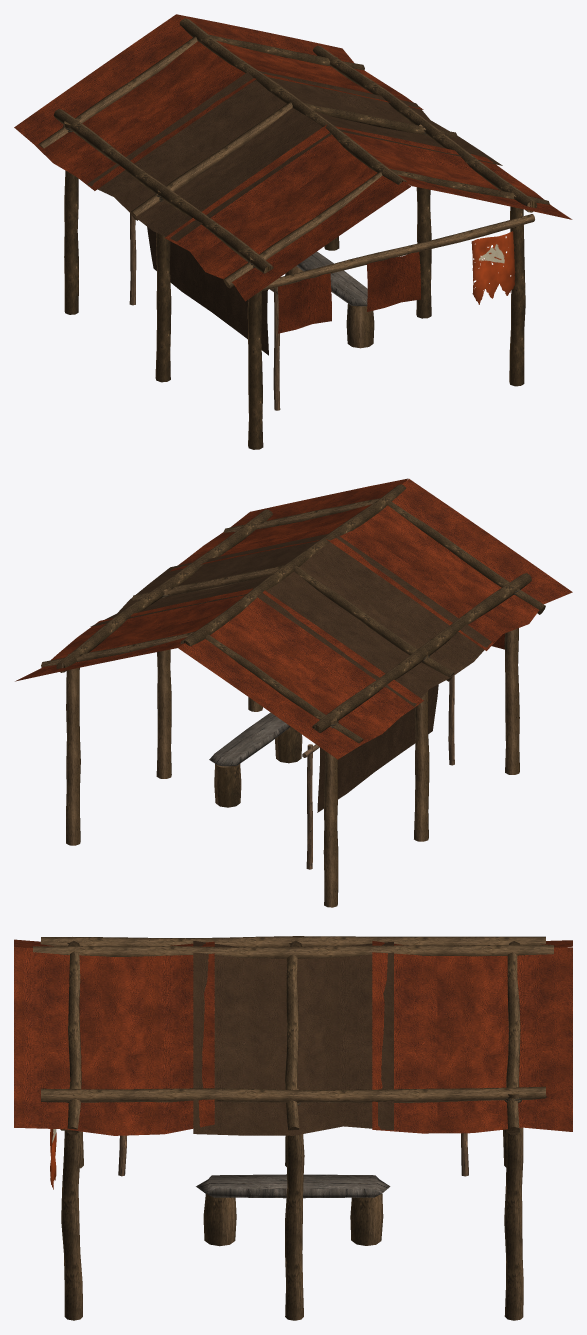
File: SM_Bld_Red_Canopy.gltf
3 renders of one model, top to bottom at view 1: azimuth 30°, elevation 25°; view 2: azimuth 150°, elevation 25°; view 3: azimuth 270°, elevation 25°, orthographic. The views are drawn at different scales.
Visible parts, largest first — view 1: SM_Bld_Red_Canopy; view 2: SM_Bld_Red_Canopy; view 3: SM_Bld_Red_Canopy.
Part boxes in pixels (x1,y1,x2,y2): SM_Bld_Red_Canopy: [14, 14, 572, 449]; SM_Bld_Red_Canopy: [15, 478, 572, 907]; SM_Bld_Red_Canopy: [14, 936, 572, 1320].
Bounding box in the file's own units: 5.62 × 4.02 × 6.86.
7 materials, 7 textured.
